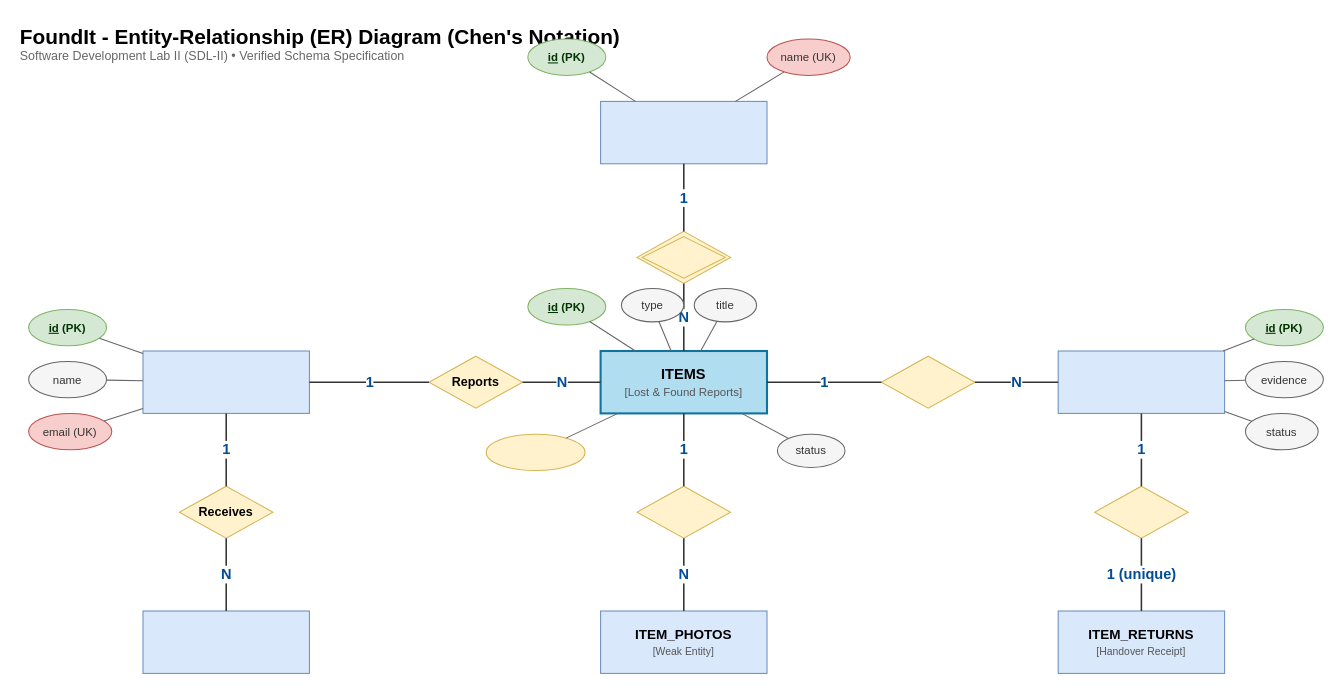
This 1342x692 diagram has some shape labels left out. The shapes that lost their labels are listed below. From the top down, each one's centre as x and y in pixels, then its label:
At [683,132]: "CATEGORIES".
At [683,257]: "Files".
At [225,381]: "USERS".
At [927,381]: "Has Claim".
At [1141,381]: "CLAIMS".
At [535,452]: "private_marks".
At [683,511]: "Contains".
At [1141,511]: "Completes".
At [225,641]: "NOTIFICATIONS".
